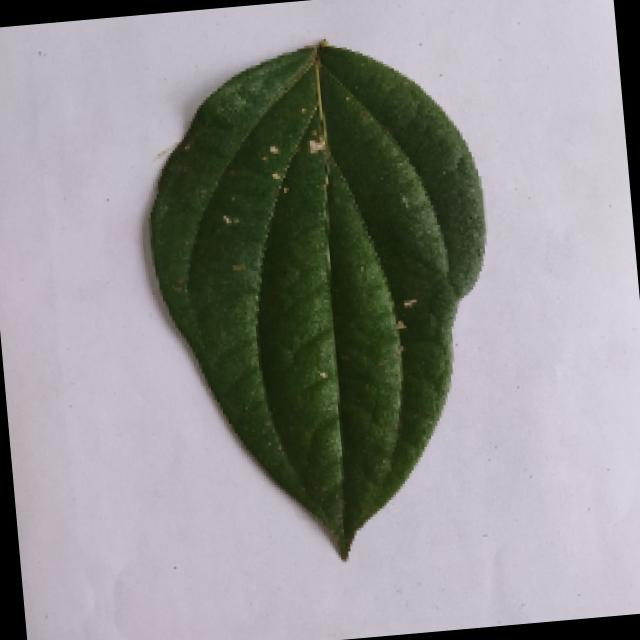pollu-disease: (131, 24, 510, 571)
